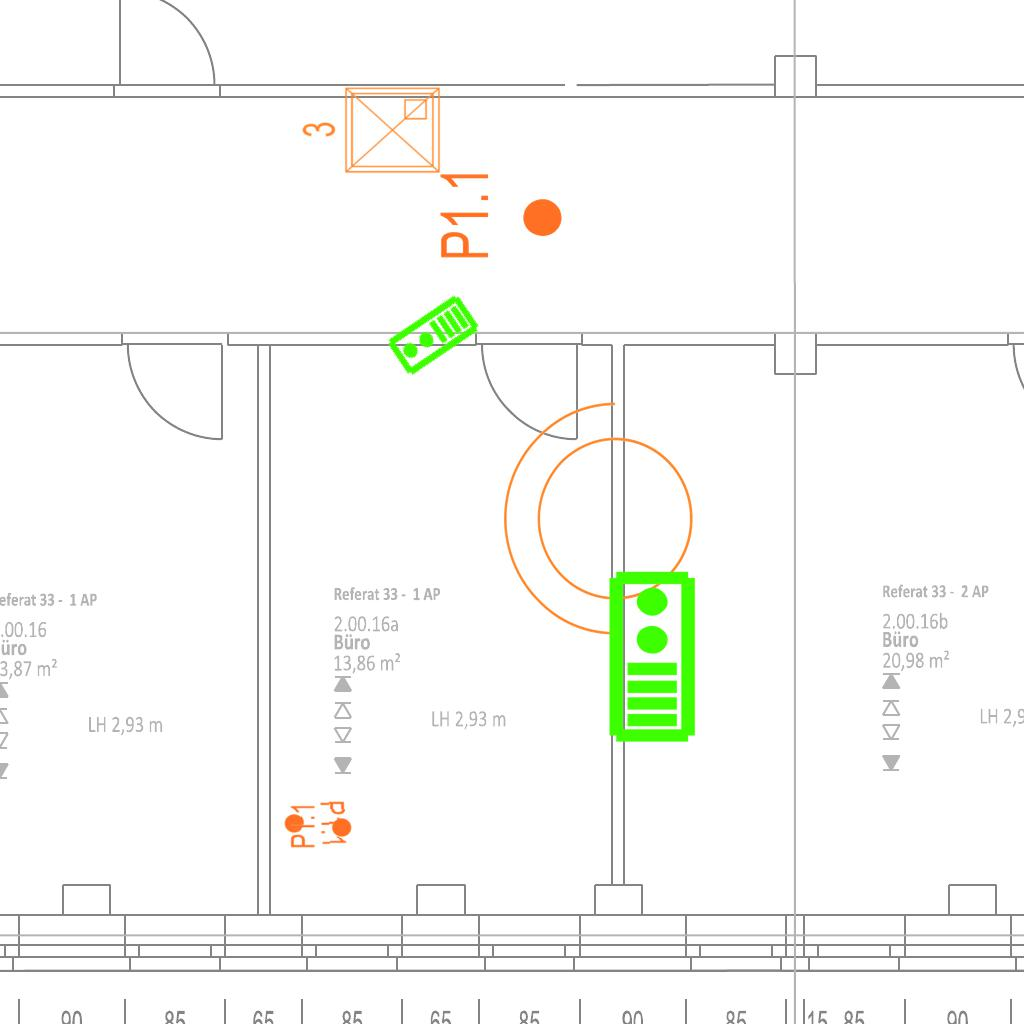Downlight_LED_Einbauleuchten_Flur: (437, 168, 565, 261), (282, 799, 348, 849), (289, 803, 353, 849)
Einbaudownlights_LED_Konferenzraeume: (297, 80, 447, 184)
Gegensprechanlage_mit_Video: (603, 568, 698, 744), (383, 291, 484, 381)
Scheinwerfer_fuer_Alarmbeleuchtung: (493, 393, 718, 657)
